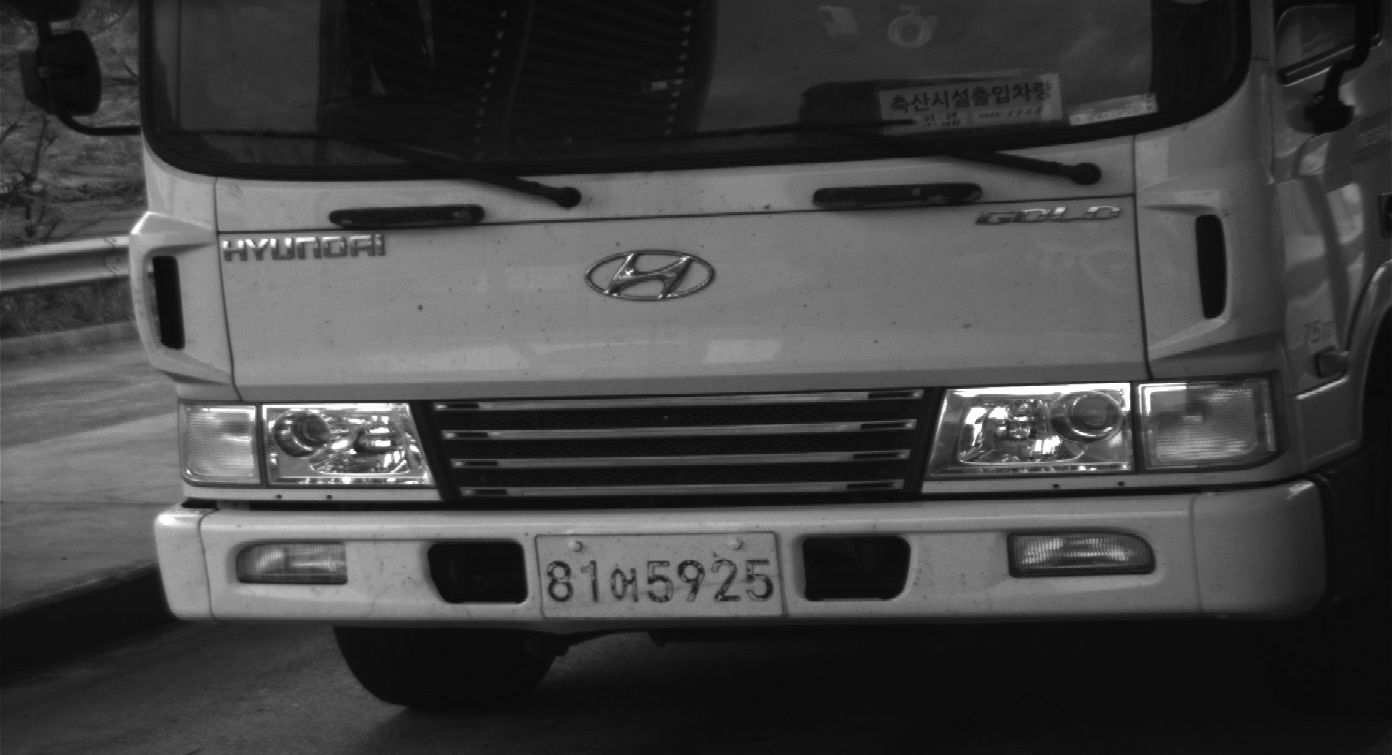car: (119, 1, 1392, 711)
plate: (535, 534, 786, 617)
